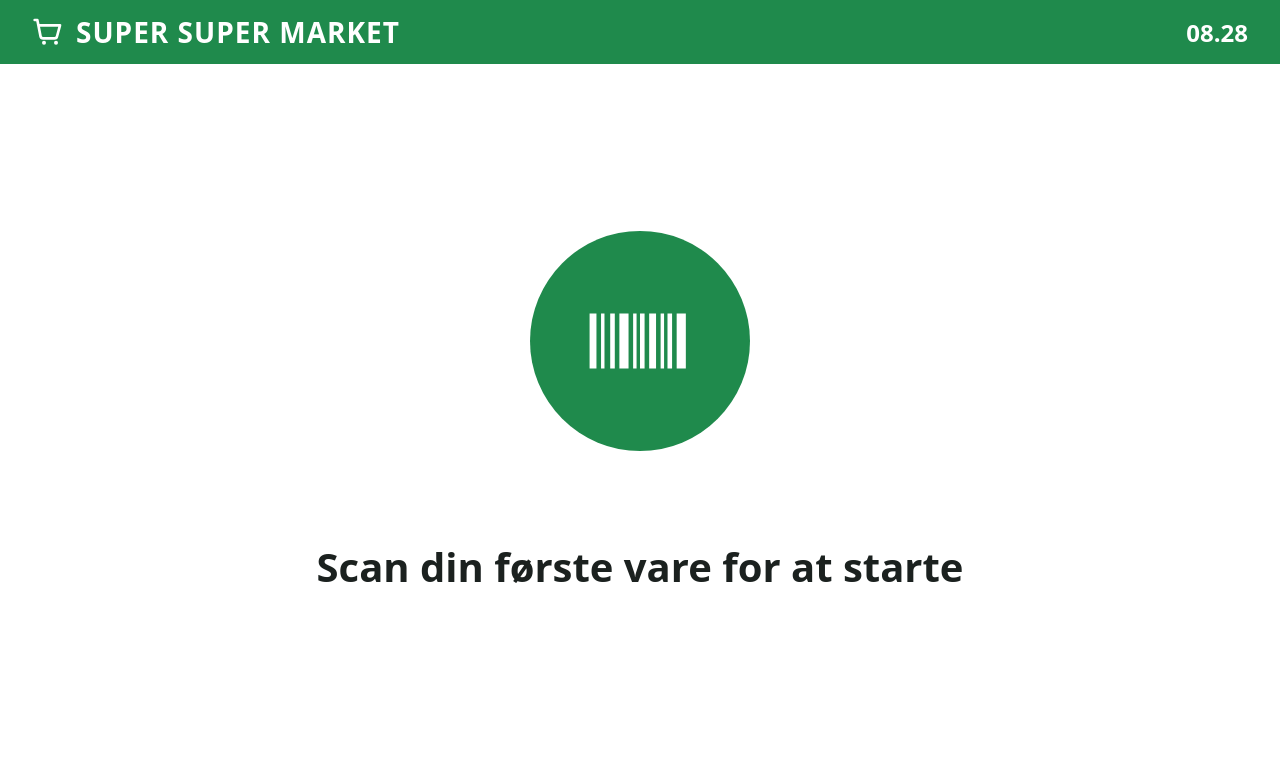
Test: Instruktørpanelet på kassen › forklarer de to valg for ukendte varer og viser, hvad der gælder lige nu
Press A
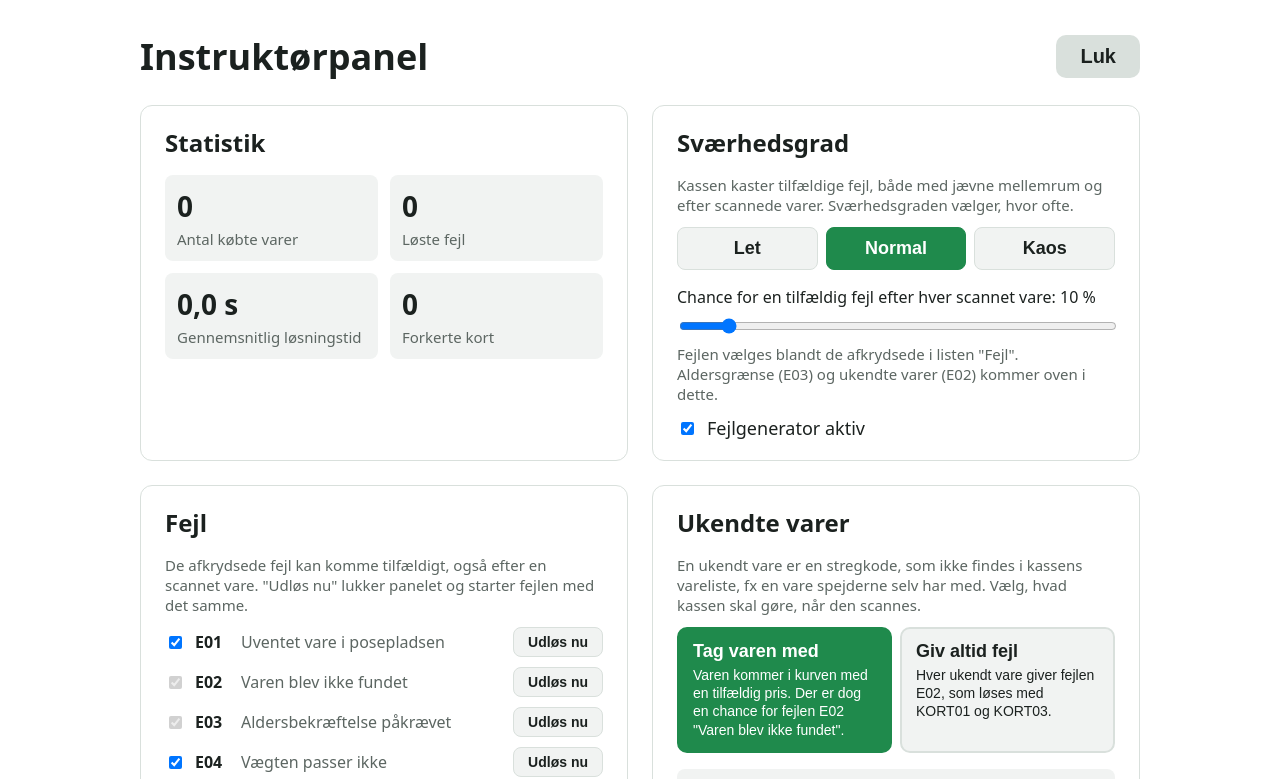
Check: the text "Tag varen med" is shown, box left=693, top=641, right=819, bottom=662
Check: the text "Giv altid fejl" is shown
Click the text "Giv altid fejl".
click(967, 652)  # box left=916, top=641, right=1018, bottom=662
(page scrolled)
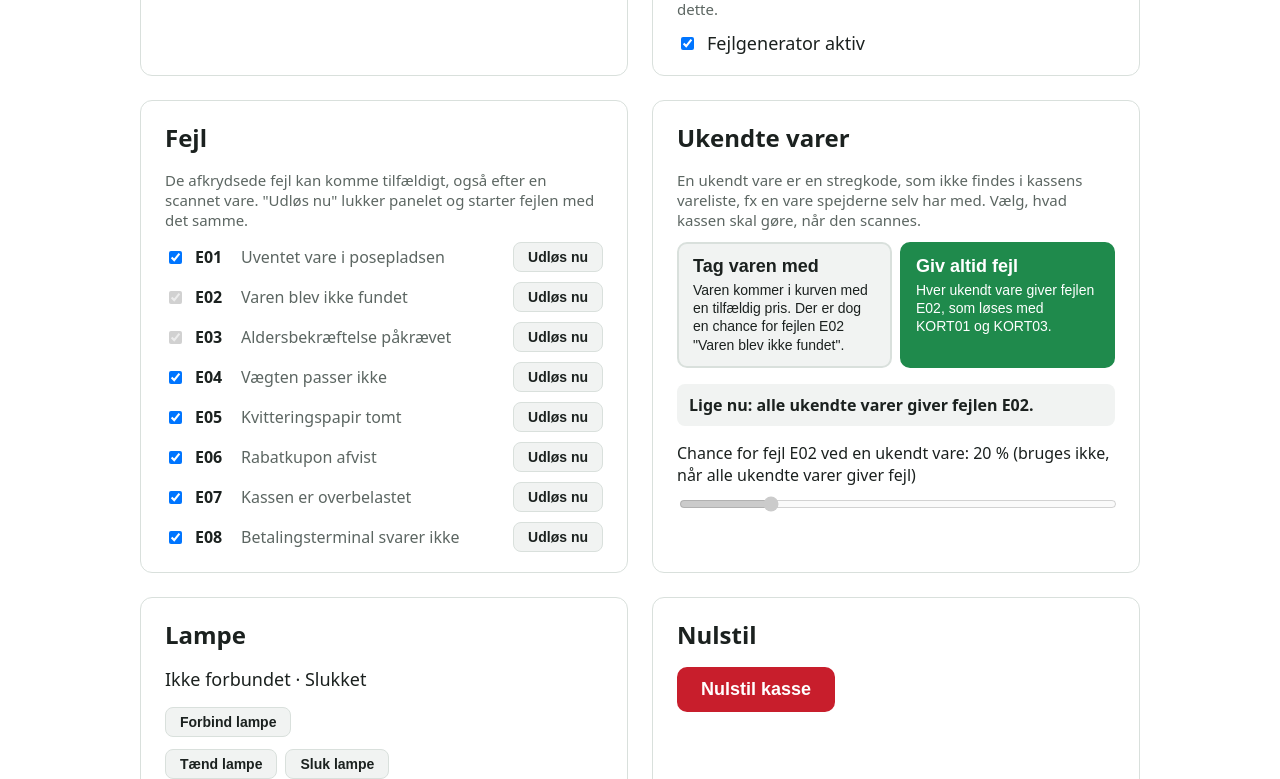
Check: the text "Lige nu: alle ukendte varer giver fejlen E02." is shown, box left=677, top=384, right=1115, bottom=426
